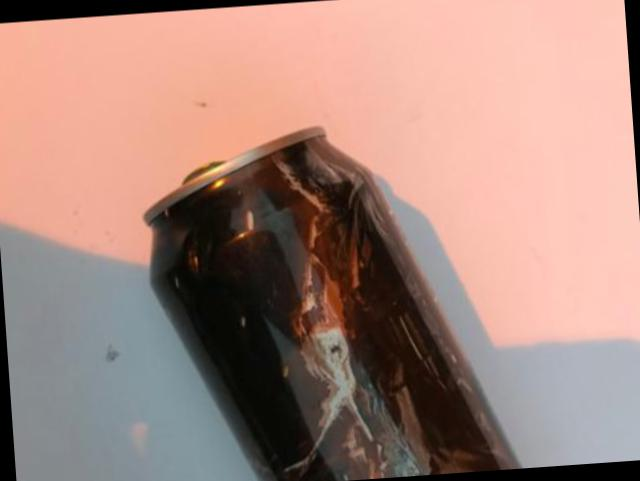metal: (147, 125, 522, 481)
